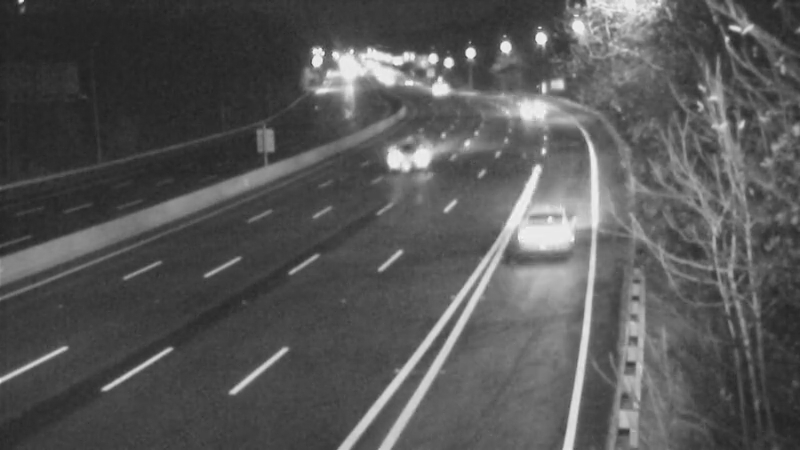vehicle: (369, 120, 449, 200), (505, 199, 585, 279), (380, 58, 430, 108), (412, 64, 462, 114), (511, 85, 561, 135)
